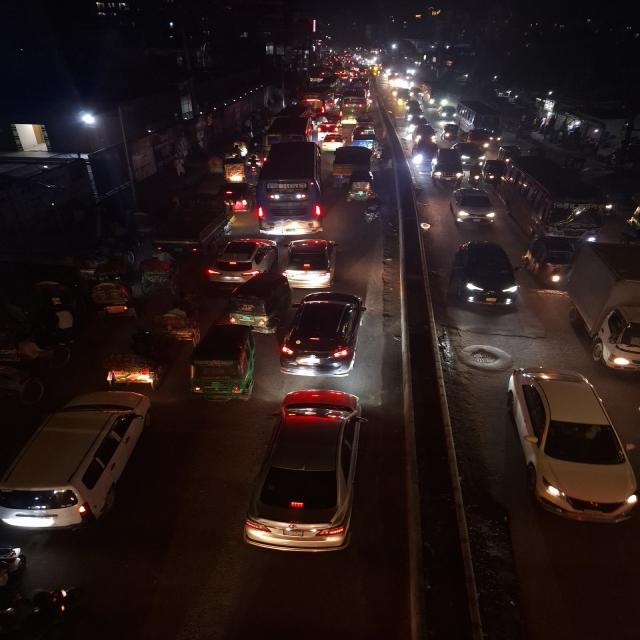bus: (505, 154, 613, 238), (255, 140, 326, 236), (456, 98, 502, 140), (264, 108, 314, 144), (337, 78, 375, 118), (302, 81, 339, 110)
car: (0, 387, 161, 533), (501, 364, 640, 532), (246, 387, 374, 561), (278, 288, 374, 378), (446, 237, 520, 311), (202, 235, 280, 283), (283, 236, 344, 288), (450, 183, 498, 228), (432, 148, 464, 185), (456, 140, 483, 166), (321, 132, 346, 152), (318, 122, 342, 135)
cng: (184, 323, 258, 407), (226, 274, 292, 332), (525, 233, 575, 289), (429, 146, 464, 185), (217, 181, 253, 215), (459, 140, 483, 186), (347, 170, 374, 202), (220, 156, 248, 184), (484, 158, 506, 186), (411, 122, 436, 146), (405, 102, 426, 126), (496, 142, 520, 162), (442, 121, 461, 143), (468, 160, 483, 186), (437, 103, 458, 121)
motorcycle: (0, 585, 79, 640), (361, 194, 387, 230), (625, 200, 640, 237)
rickshaw: (0, 333, 77, 403), (102, 331, 165, 389), (76, 274, 136, 322), (154, 303, 202, 345), (136, 255, 183, 295), (204, 154, 225, 178)
truck: (566, 240, 640, 376), (144, 193, 236, 255), (350, 120, 380, 146)
